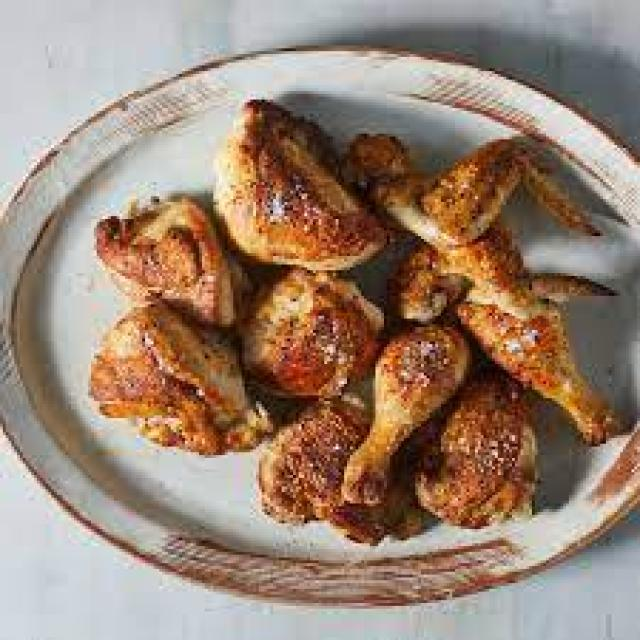Frango: (80, 100, 628, 543)
